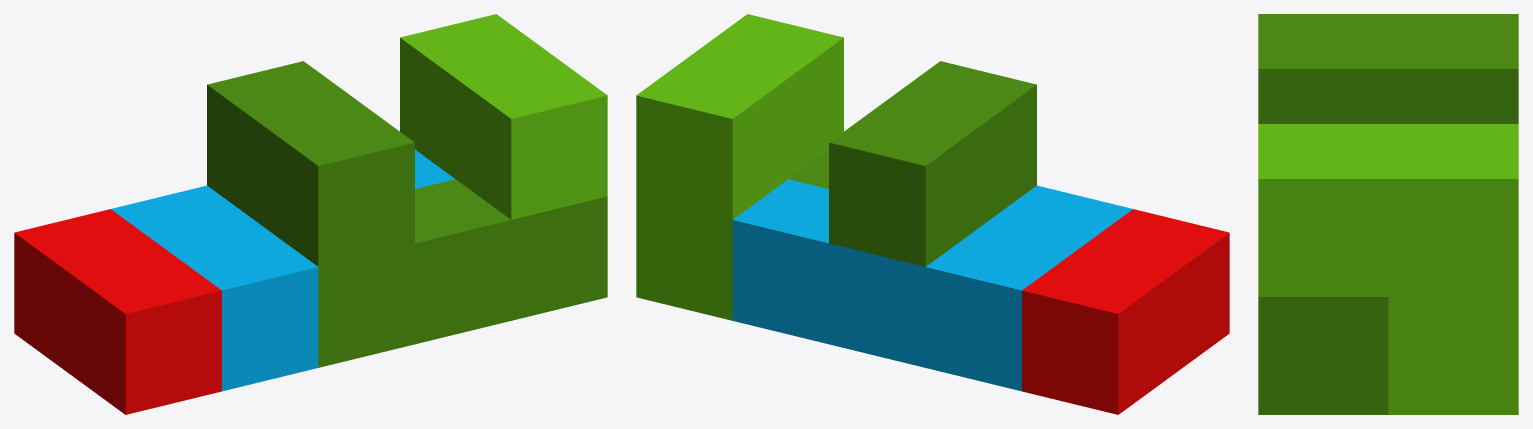
3 renders of one model, left to right at view 1: azimuth 30°, elevation 25°; view 2: azimuth 150°, elevation 25°; view 3: azimuth 270°, elevation 25°, orthographic. The views are drawn at different scales.
Parts seen in each view (by area): view 1: mergedBlocks(Clone); view 2: mergedBlocks(Clone); view 3: mergedBlocks(Clone).
Part boxes in pixels (box(x1,y1,x2,y2)): mergedBlocks(Clone): box(14, 14, 607, 414); mergedBlocks(Clone): box(636, 14, 1229, 414); mergedBlocks(Clone): box(1258, 14, 1518, 414).
Size of the model in its own units: 5 by 2 by 2.
Materials: 4 (4 with a texture image).
